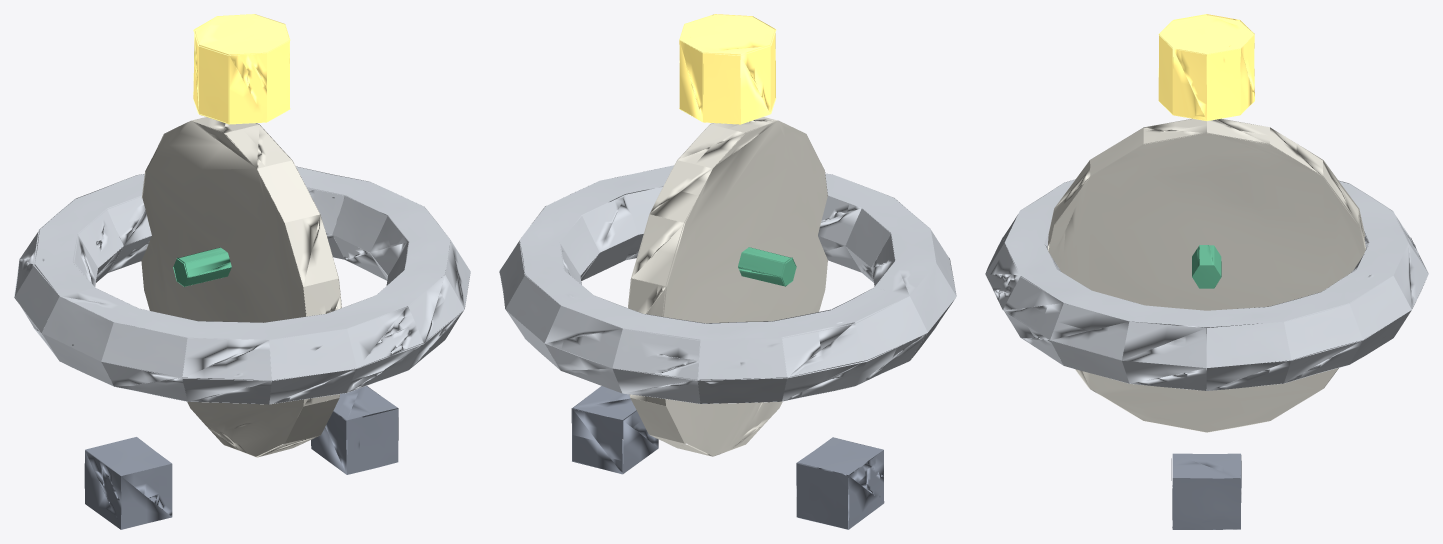
File: clock.glb
3 renders of one model, left to right at view 1: azimuth 30°, elevation 25°; view 2: azimuth 150°, elevation 25°; view 3: azimuth 270°, elevation 25°, orthographic. The views are drawn at different scales.
Visible parts, largest first — view 1: PangClockRim; view 2: PangClockRim; view 3: PangClockRim.
Boxes of the visible parts, x1,y1,x2,y2 form: PangClockRim: (14,14,470,529); PangClockRim: (499,14,956,529); PangClockRim: (985,14,1428,529).
Size of the model in its own units: 0.7806 by 0.8383 by 0.7789.
